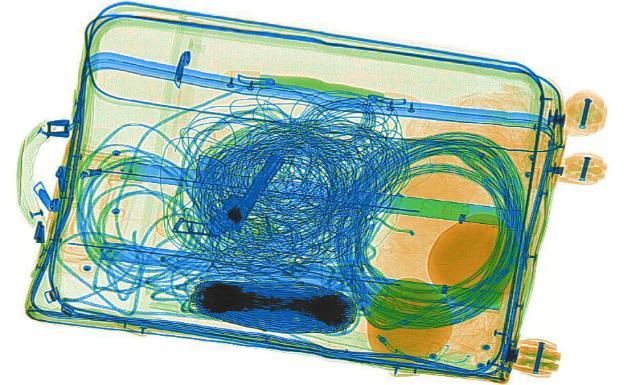Gun: (168, 144, 288, 243)
